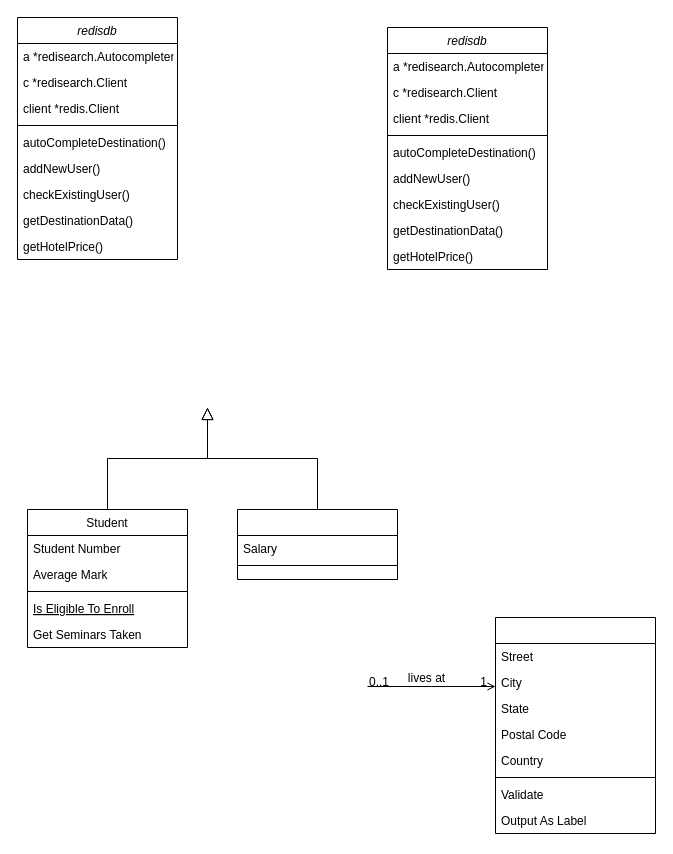
The diagram is 673 pixels wide and 854 high, and some of its shapes have lost their labels. Here are the shapes that lost their labels. From the top down, the box of each, then its label:
(236, 508, 398, 580): Professor
(494, 616, 656, 834): Address
